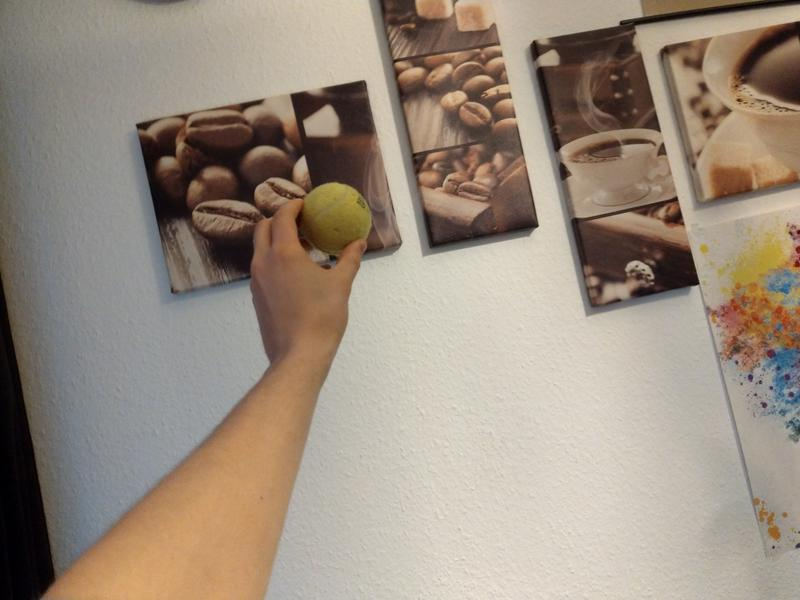Tennisball: (295, 178, 374, 257)
